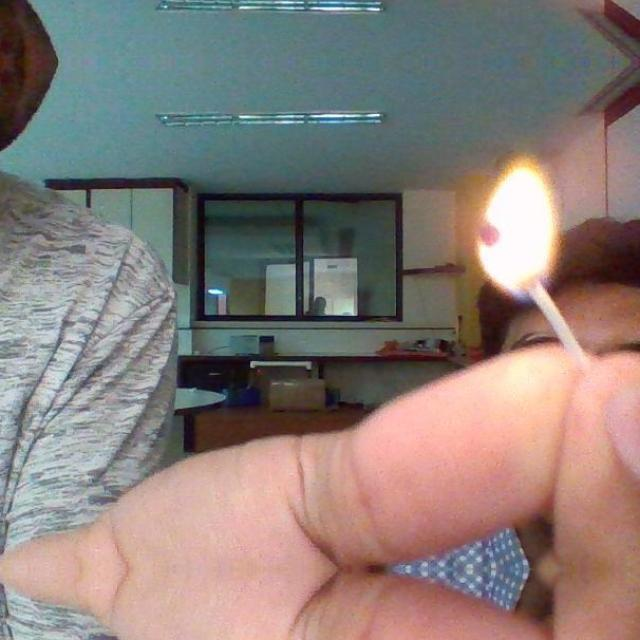smoke: (468, 156, 565, 300)
